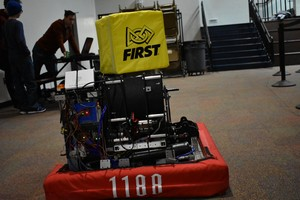cube: (96, 14, 171, 71)
